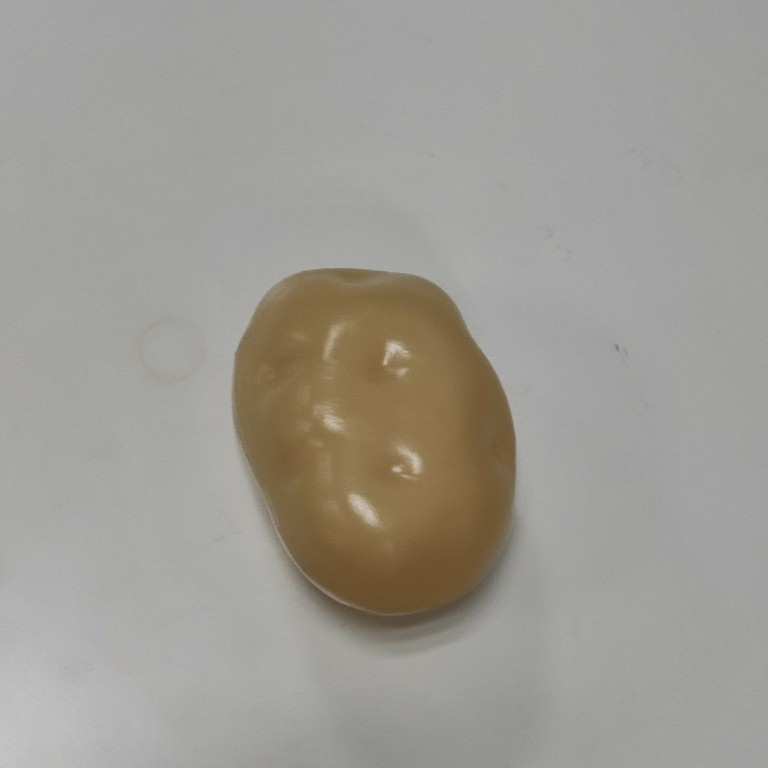fruit_potato: (228, 263, 519, 622)
